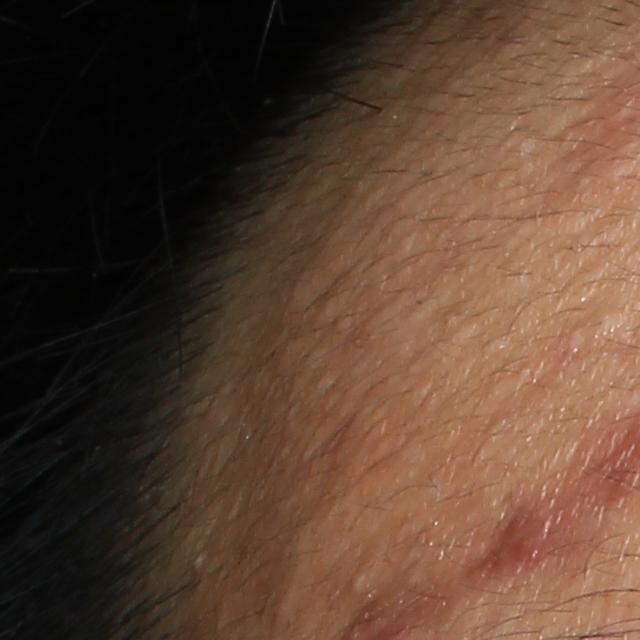comedo: (581, 310, 629, 339)
